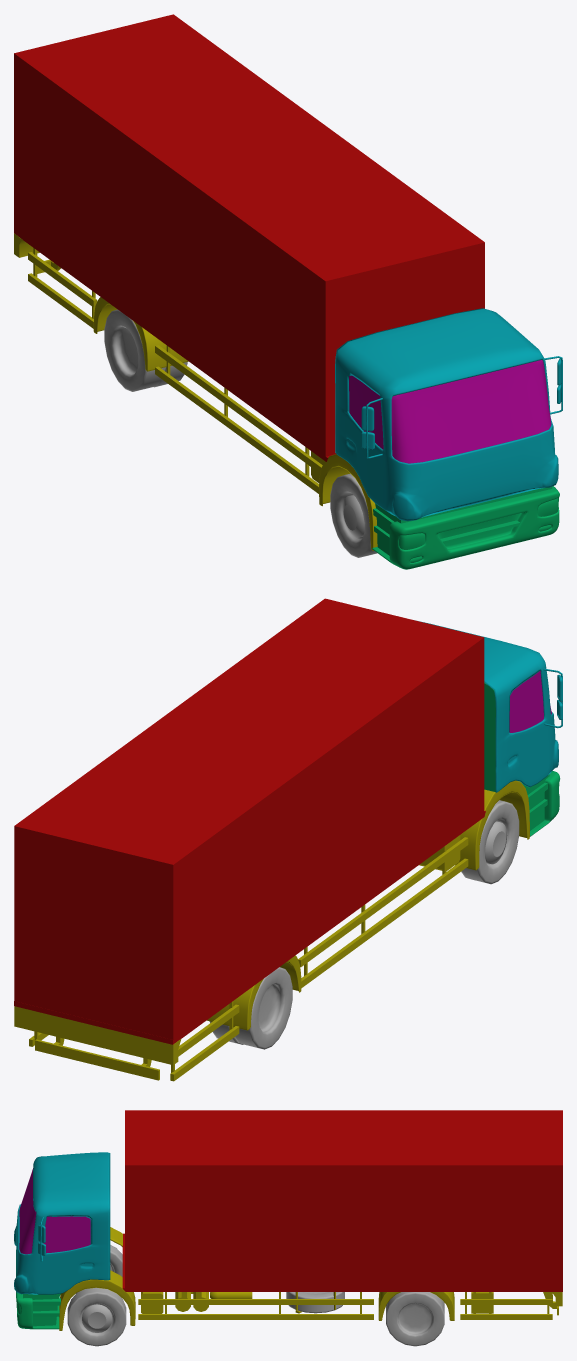
File: Truck_LowPoly.fbx
The picture shows the model from 3 angles, top to bottom: view 1: azimuth 30°, elevation 25°; view 2: azimuth 150°, elevation 25°; view 3: azimuth 270°, elevation 25°; orthographic projection. The views are drawn at different scales.
Visible parts, largest first — view 1: Container_Body, Front_Main_Body, Glass1, Front_Bottom_Body, W_Cover_Engines, Back_R_Wheel, Front_R_Wheel; view 2: Container_Body, W_Cover_Engines, Front_Main_Body, Back_R_Wheel, Front_R_Wheel, Front_Bottom_Body, Glass1; view 3: Container_Body, Front_Main_Body, W_Cover_Engines, Front_L_Wheel, Back_L_Wheel, Glass1, Front_Bottom_Body, Spare_Wheel, Front_R_Wheel.
Boxes of the visible parts, x1,y1,x2,y2 form: Container_Body: (14, 14, 484, 461); Front_Main_Body: (335, 308, 562, 521); Glass1: (349, 360, 551, 463); Front_Bottom_Body: (372, 486, 559, 569); W_Cover_Engines: (14, 233, 377, 550); Back_R_Wheel: (104, 309, 187, 391); Front_R_Wheel: (330, 473, 377, 557); Container_Body: (14, 598, 485, 1044); W_Cover_Engines: (14, 780, 529, 1081); Front_Main_Body: (418, 621, 562, 792); Back_R_Wheel: (209, 967, 292, 1049); Front_R_Wheel: (461, 800, 519, 884); Front_Bottom_Body: (484, 682, 560, 836); Glass1: (509, 670, 551, 732); Container_Body: (122, 1110, 562, 1291); Front_Main_Body: (14, 1152, 110, 1294); W_Cover_Engines: (59, 1227, 562, 1330); Front_L_Wheel: (67, 1287, 126, 1346); Back_L_Wheel: (386, 1292, 444, 1346); Glass1: (19, 1168, 90, 1254); Front_Bottom_Body: (16, 1250, 60, 1329); Spare_Wheel: (286, 1292, 344, 1313); Front_R_Wheel: (76, 1245, 122, 1293).
Bounding box in the file's own units: 7.28 × 9.04 × 24.51.
